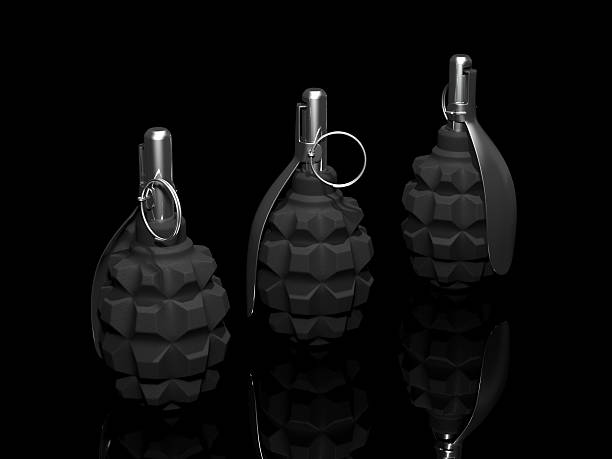e1: (79, 130, 230, 414), (248, 89, 376, 362), (407, 52, 518, 314)
